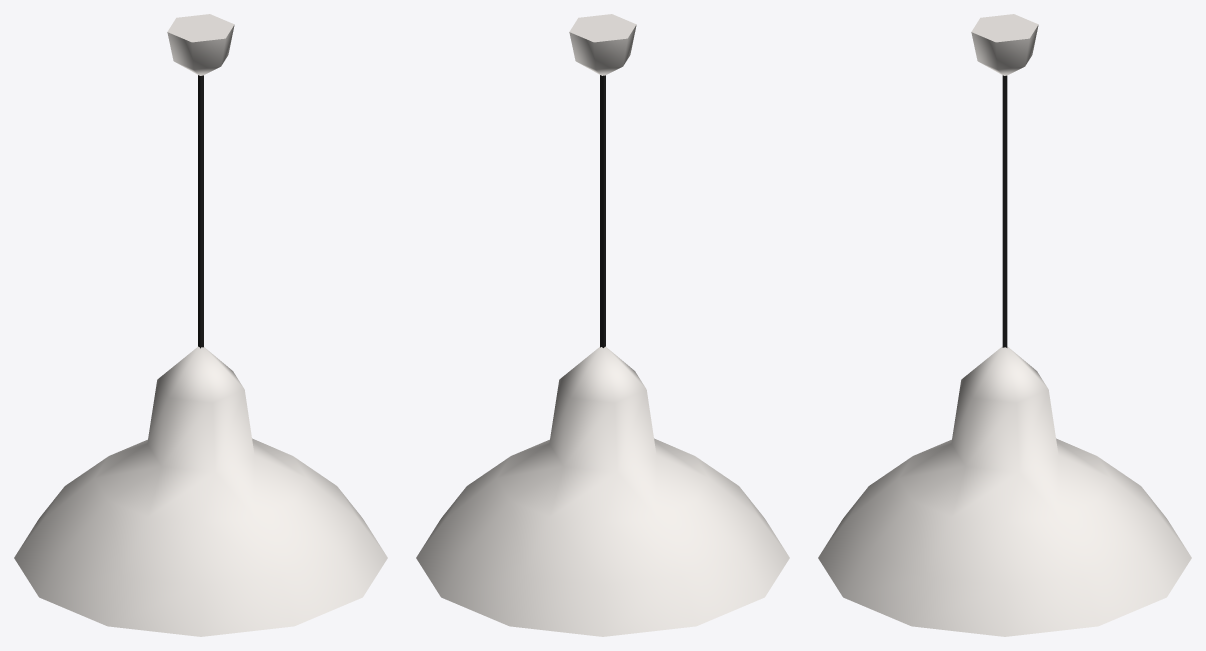
Rendered from lamp_026.glb.
The picture shows the model from 3 angles, left to right: view 1: azimuth 30°, elevation 25°; view 2: azimuth 150°, elevation 25°; view 3: azimuth 270°, elevation 25°; orthographic projection.
Visible parts, largest first — view 1: lamp_026; view 2: lamp_026; view 3: lamp_026.
Boxes of the visible parts, left/top/right/bottom form: lamp_026: left=14, top=14, right=387, bottom=636; lamp_026: left=416, top=14, right=789, bottom=636; lamp_026: left=818, top=14, right=1191, bottom=636.
Bounding box in the file's own units: 0.5467 × 0.8545 × 0.5467.
1 material, 1 textured.
